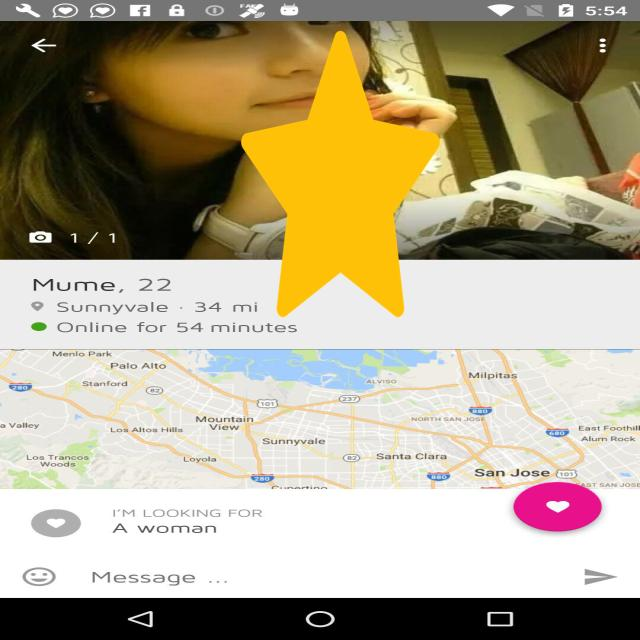forced continuity: (241, 31, 440, 317)
